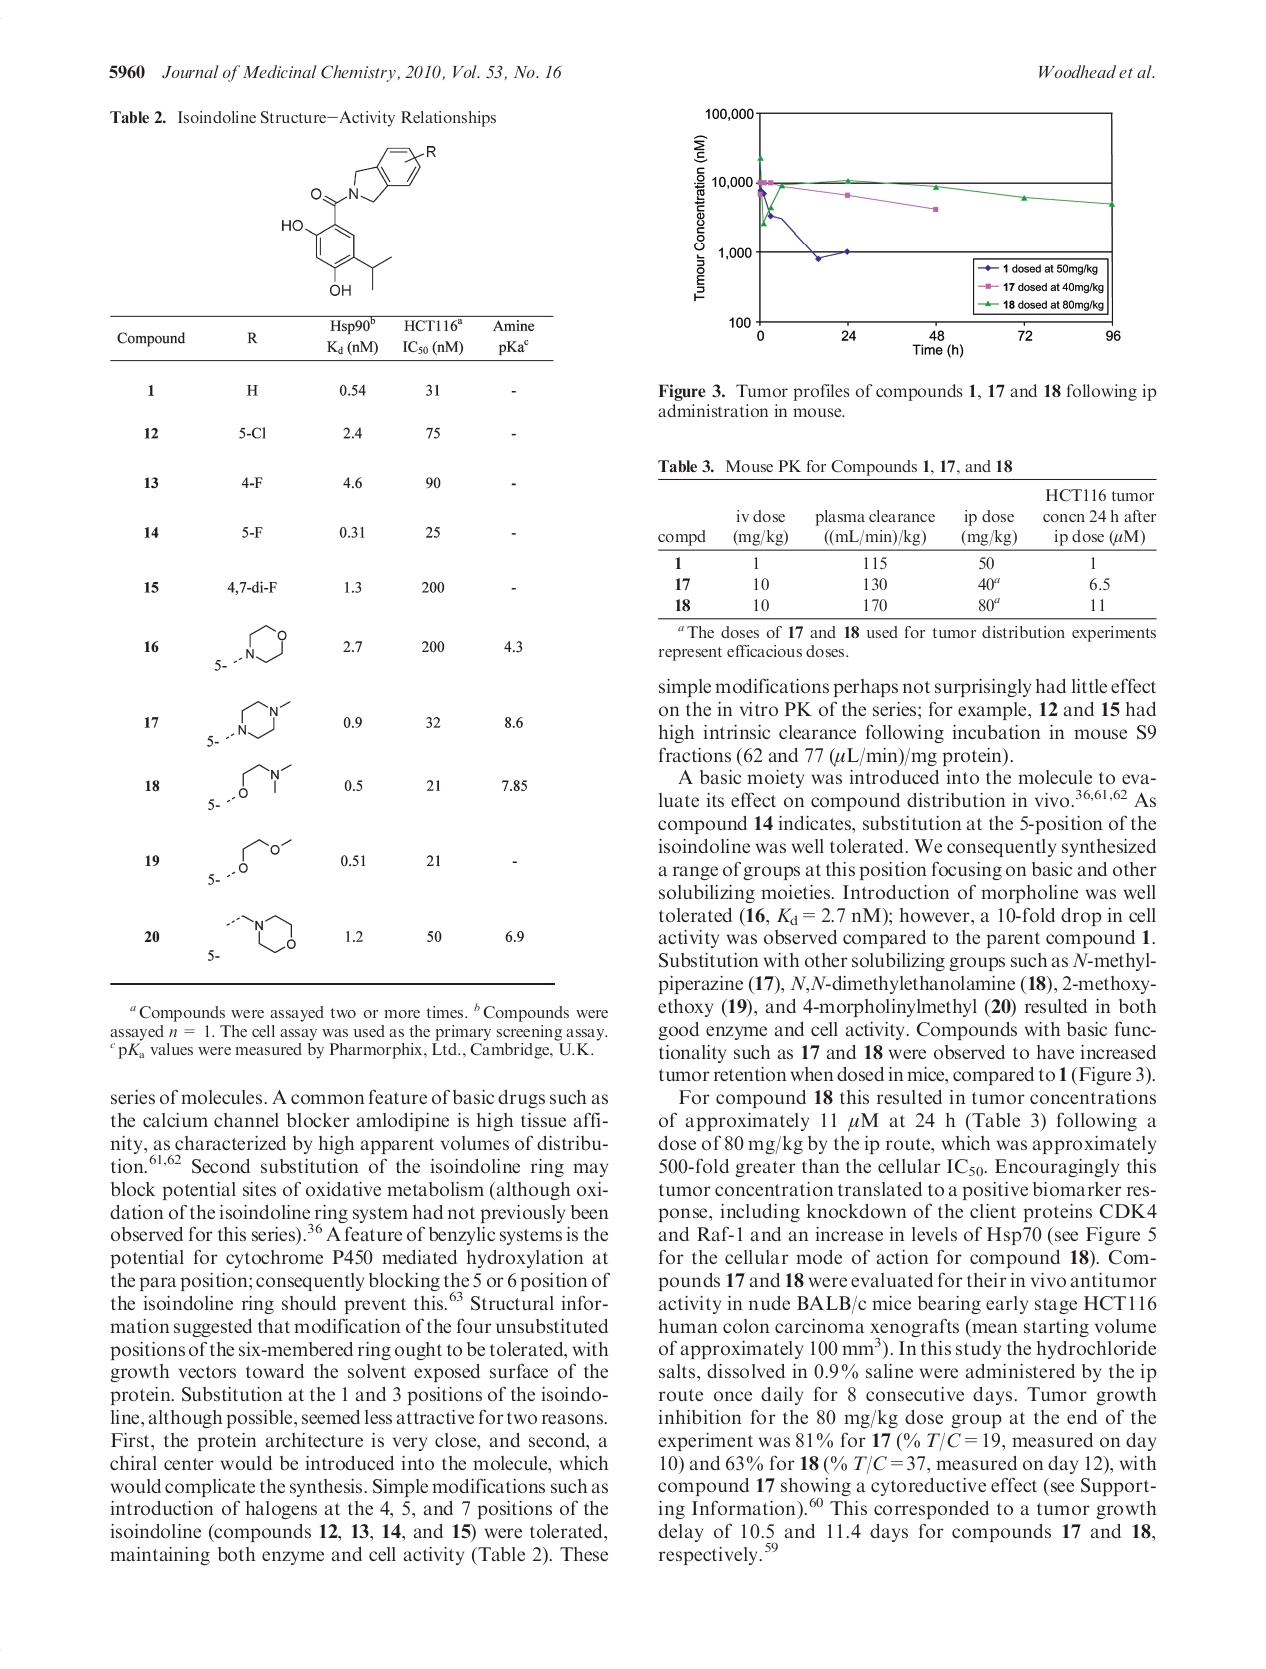exist_molecular: (277, 144, 439, 298), (199, 693, 306, 755), (199, 755, 306, 814), (203, 833, 299, 888), (211, 618, 290, 672), (222, 910, 302, 954)
